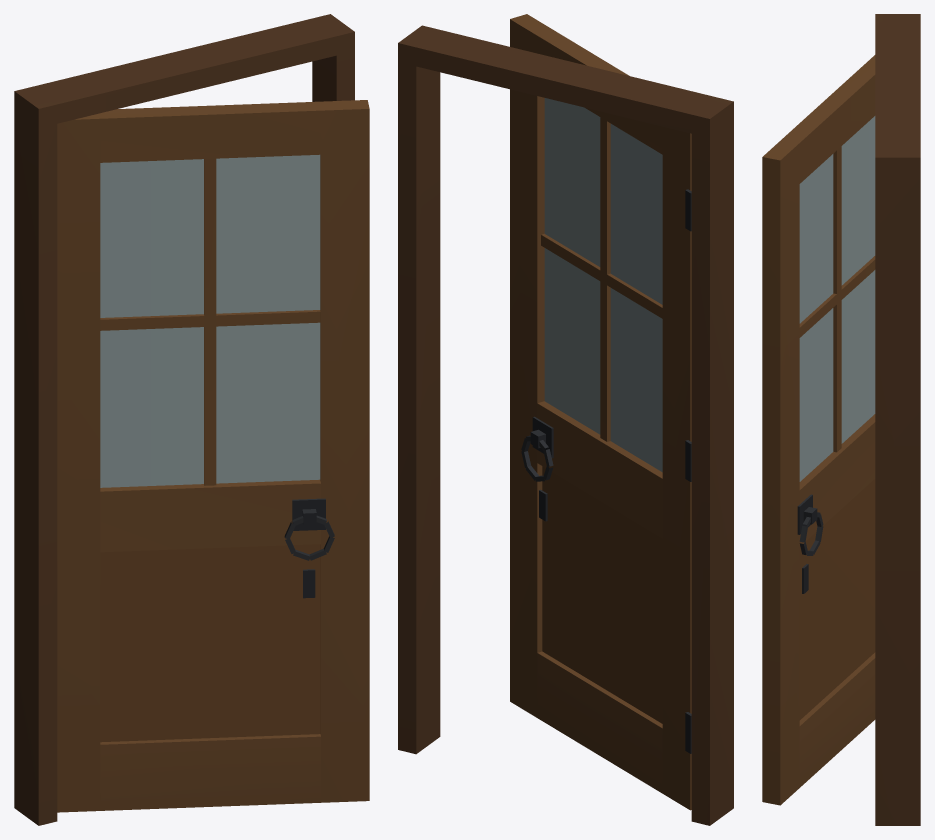
Rendered from door.oak_slim_ajar.glazed.glb.
3 views of the same model, side by side, from view 1: azimuth 30°, elevation 25°; view 2: azimuth 150°, elevation 25°; view 3: azimuth 270°, elevation 25° (orthographic). The views are drawn at different scales.
Visible parts, largest first — view 1: door_oak_slim_ajar_glazed; view 2: door_oak_slim_ajar_glazed; view 3: door_oak_slim_ajar_glazed.
Part boxes in pixels (x1,y1,x2,y2): door_oak_slim_ajar_glazed: (14, 14, 369, 825); door_oak_slim_ajar_glazed: (398, 14, 733, 825); door_oak_slim_ajar_glazed: (762, 14, 920, 825).
Size of what is drawn, in the model's own units: 1.2 by 2.6 by 0.5579.
